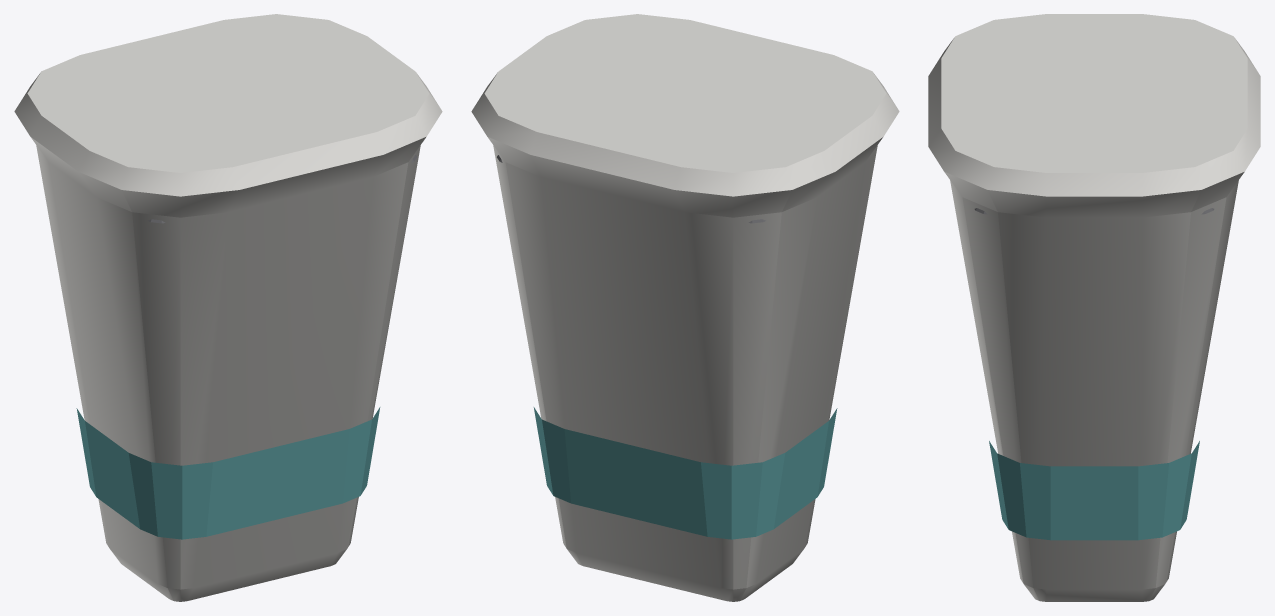
The model's file is fast-food-and-drive-thru-fry-carton-large-cf1fecc4__16218.glb.
3 views of the same model, side by side, from view 1: azimuth 30°, elevation 25°; view 2: azimuth 150°, elevation 25°; view 3: azimuth 270°, elevation 25° (orthographic).
Parts seen in each view (by area): view 1: fry-carton-large; view 2: fry-carton-large; view 3: fry-carton-large.
Boxes of the visible parts, left/top/right/bottom form: fry-carton-large: left=14, top=14, right=442, bottom=601; fry-carton-large: left=471, top=14, right=899, bottom=601; fry-carton-large: left=928, top=14, right=1260, bottom=601.
Size of the model in its own units: 0.1214 by 0.1558 by 0.1003.
